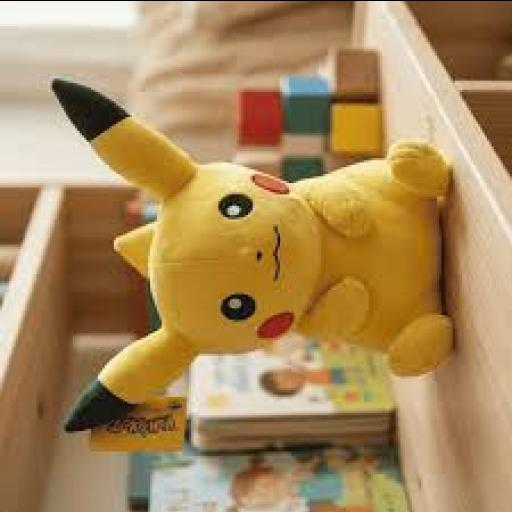Pikachu: (49, 77, 455, 432)
